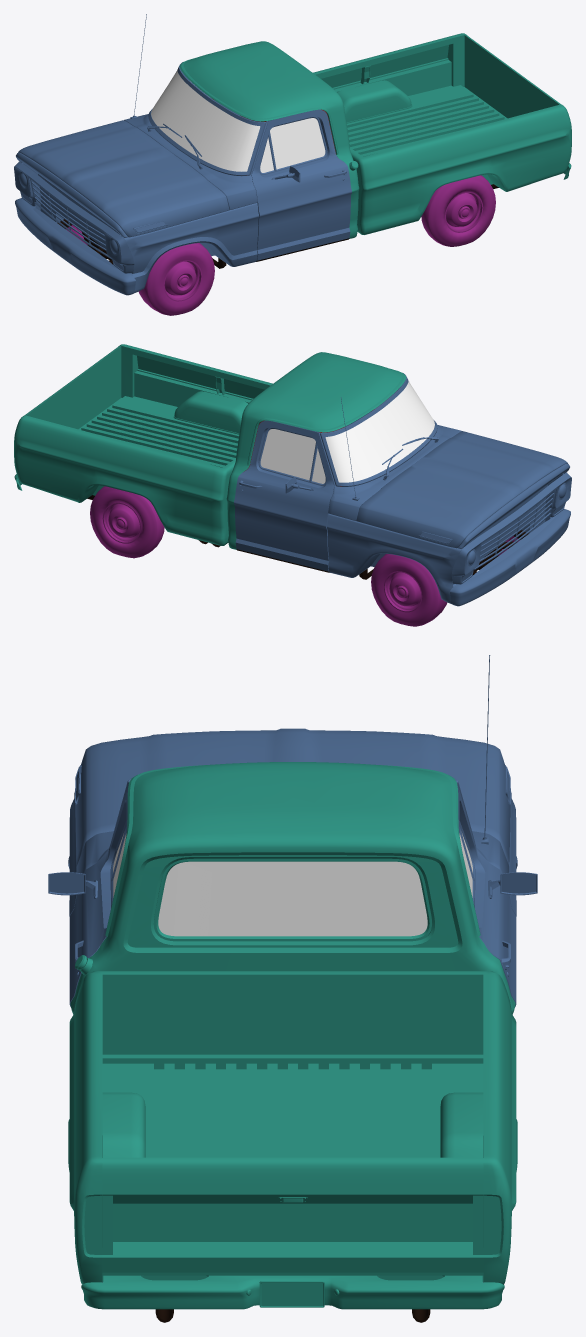
Rendered from Ford F100.fbx.
The picture shows the model from 3 angles, top to bottom: view 1: azimuth 30°, elevation 25°; view 2: azimuth 150°, elevation 25°; view 3: azimuth 270°, elevation 25°; orthographic projection. The views are drawn at different scales.
Visible parts, largest first — view 1: Ford F100; view 2: Ford F100; view 3: Ford F100.
Part boxes in pixels (x1=…): Ford F100: x1=14, y1=14, x2=571, y2=315; Ford F100: x1=14, y1=344, x2=571, y2=626; Ford F100: x1=48, y1=655, x2=537, y2=1322.
Size of the model in its own units: 317 by 138 by 145.
